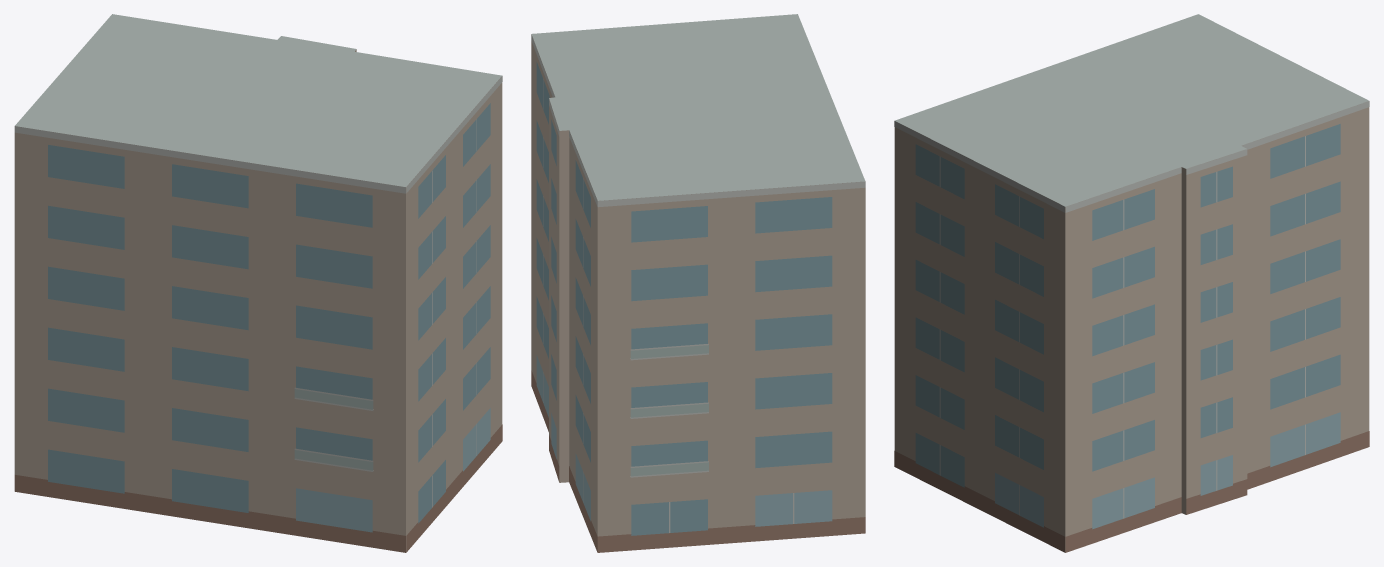
File: survey-upis-32959075.glb
3 views of the same model, side by side, from view 1: azimuth 30°, elevation 25°; view 2: azimuth 150°, elevation 25°; view 3: azimuth 270°, elevation 25° (orthographic). The views are drawn at different scales.
Parts seen in each view (by area): view 1: survey-upis-32959075.tmp; view 2: survey-upis-32959075.tmp; view 3: survey-upis-32959075.tmp.
Boxes of the visible parts, <box> form: survey-upis-32959075.tmp: <box>14,14,502,552</box>; survey-upis-32959075.tmp: <box>531,14,865,552</box>; survey-upis-32959075.tmp: <box>894,14,1369,552</box>.
Bounding box in the file's own units: 16.26 × 13.6 × 16.92.
